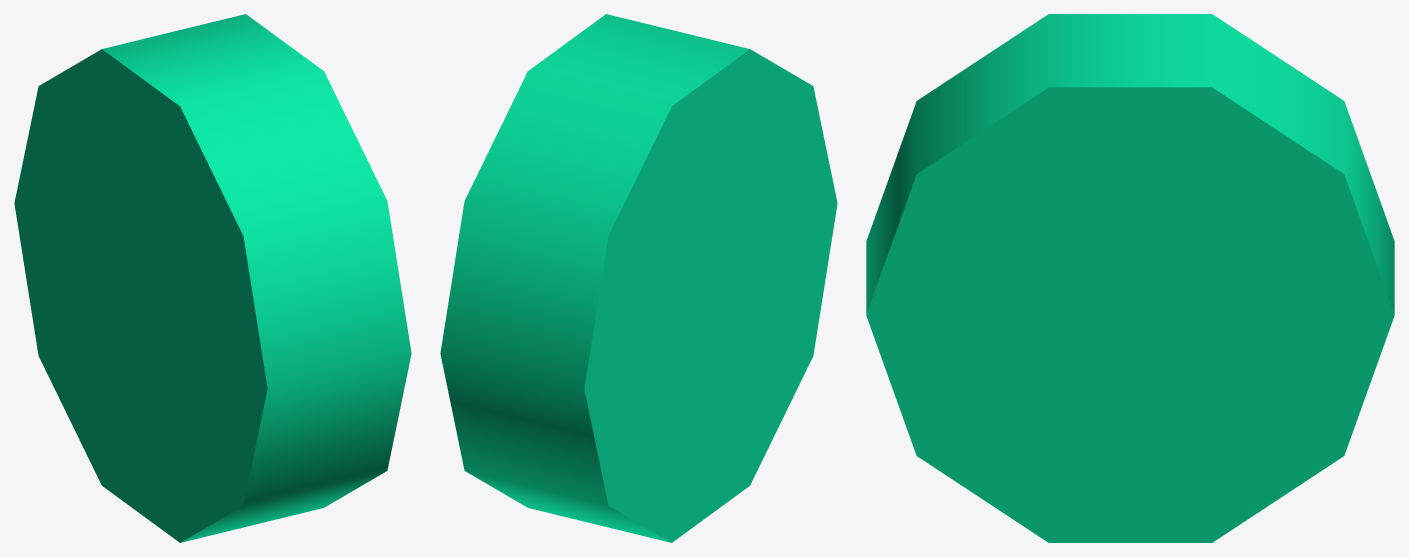
Rendered from Car_Wheel_01_Lod1.fbx.
The picture shows the model from 3 angles, left to right: view 1: azimuth 30°, elevation 25°; view 2: azimuth 150°, elevation 25°; view 3: azimuth 270°, elevation 25°; orthographic projection. The views are drawn at different scales.
Parts seen in each view (by area): view 1: Car_Wheel_01_Lod1; view 2: Car_Wheel_01_Lod1; view 3: Car_Wheel_01_Lod1.
Boxes of the visible parts, x1=… form: Car_Wheel_01_Lod1: x1=14, y1=14, x2=411, y2=542; Car_Wheel_01_Lod1: x1=440, y1=14, x2=837, y2=542; Car_Wheel_01_Lod1: x1=866, y1=14, x2=1394, y2=542.
Bounding box in the file's own units: 24.91 × 72.18 × 75.9.
